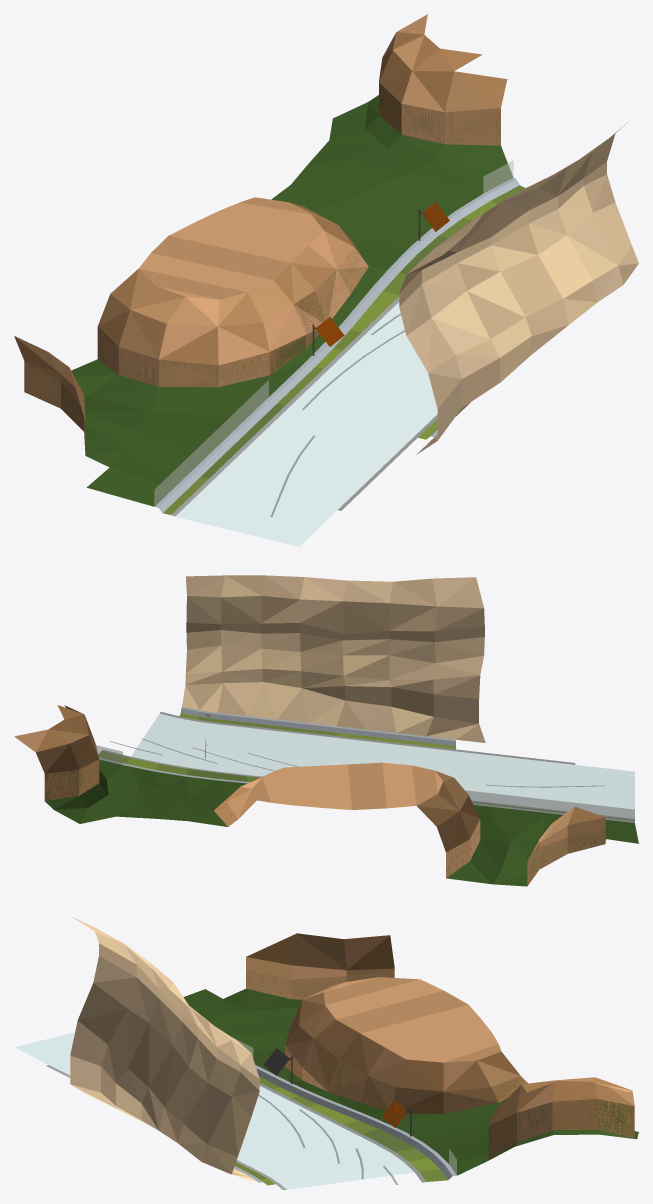
The picture shows the model from 3 angles, top to bottom: view 1: azimuth 30°, elevation 25°; view 2: azimuth 150°, elevation 25°; view 3: azimuth 270°, elevation 25°; orthographic projection. The views are drawn at different scales.
Parts seen in each view (by area): view 1: O16BE1; view 2: O16BE1; view 3: O16BE1.
Boxes of the visible parts, x1,y1,x2,y2 form: O16BE1: (14,14,638,546); O16BE1: (14,575,638,886); O16BE1: (14,916,638,1189).
Size of the model in its own units: 140 by 52.75 by 142.
